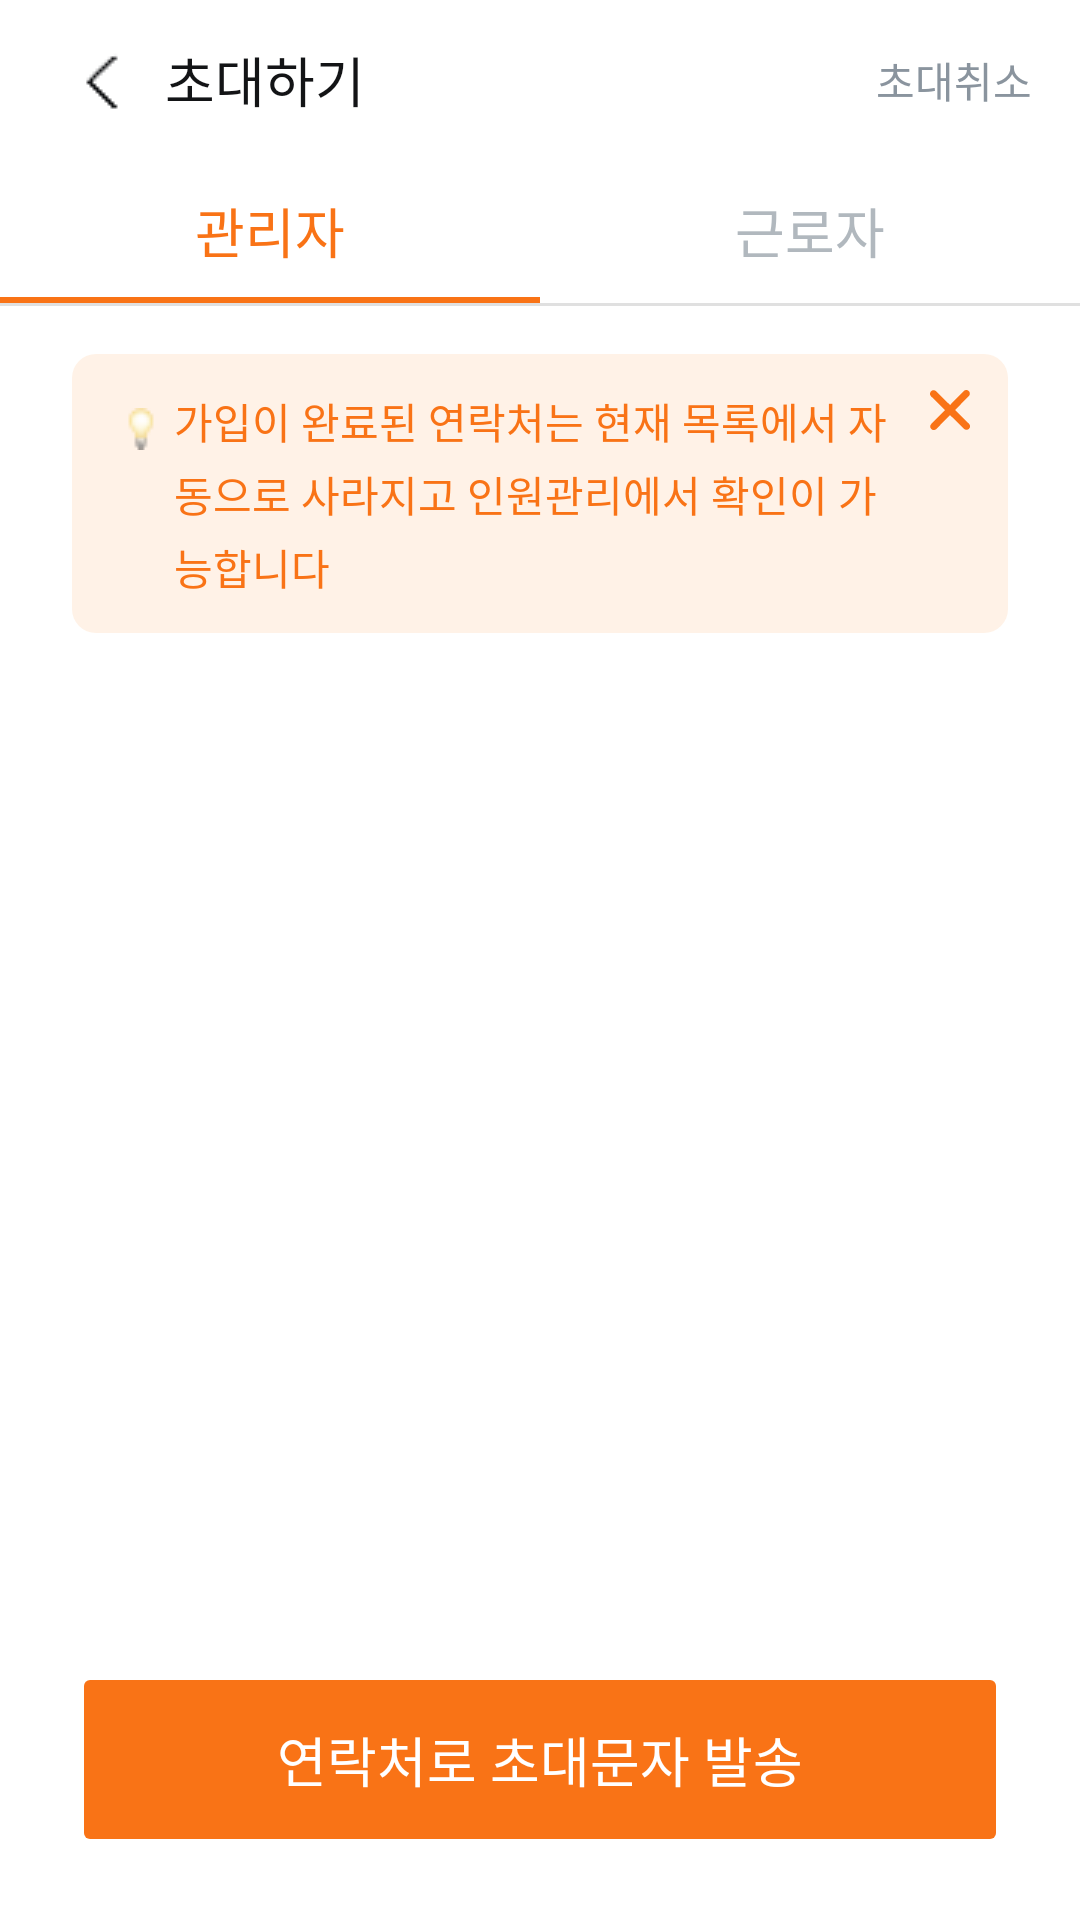

Icon bounding boxes for this 1080 x 1920 phone screenshot, format (x1, y1, x2, y2):
back: (86, 56, 118, 109)
